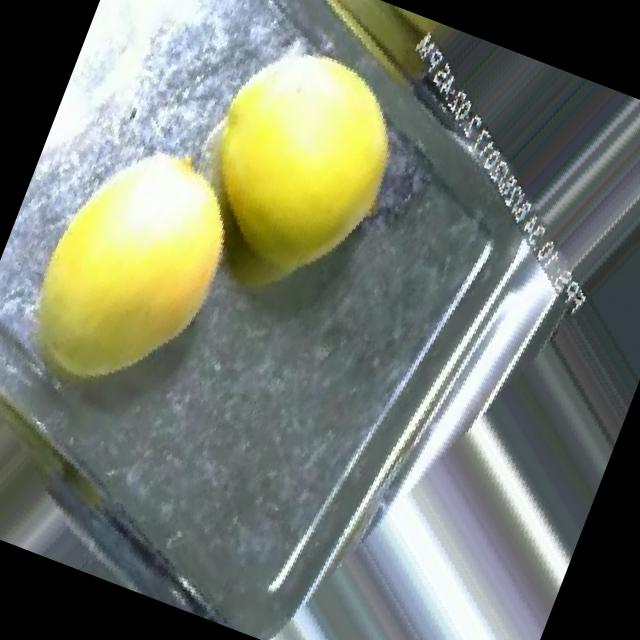fruit: (112, 0, 477, 362), (0, 78, 314, 473), (218, 0, 500, 104)
